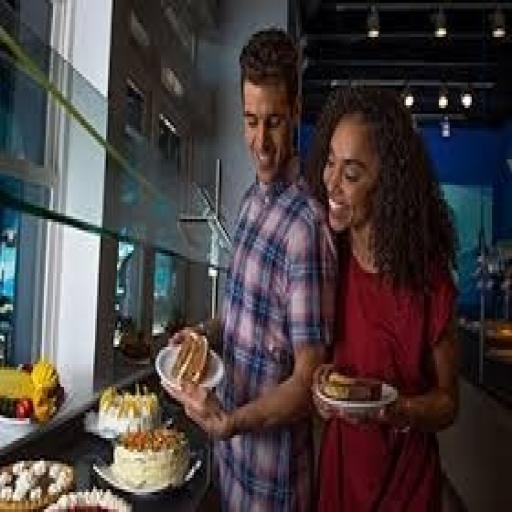eating: (162, 23, 462, 506)
